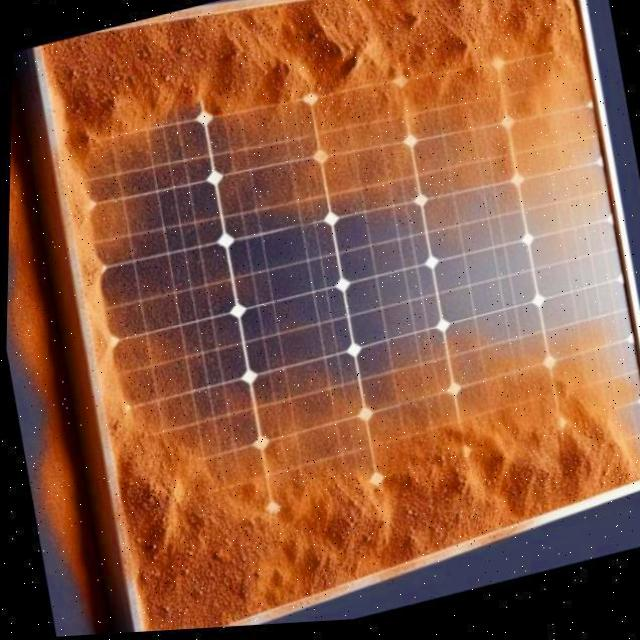Anomaly Solar Panel: (37, 0, 640, 633)
Surface Contaminant: (36, 0, 640, 633)
